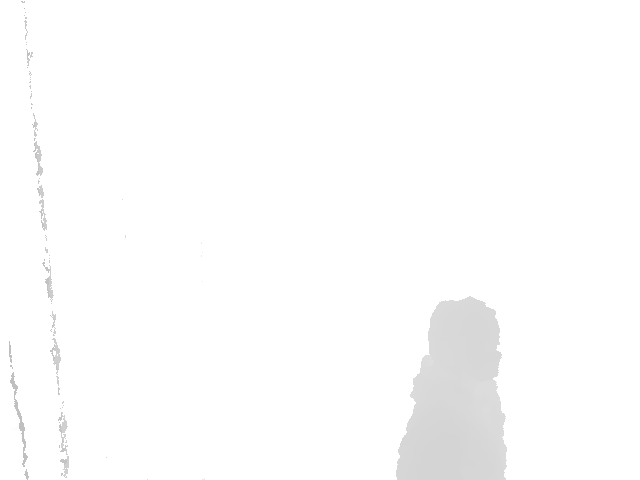head: (427, 297, 502, 383)
person: (394, 297, 509, 480)
